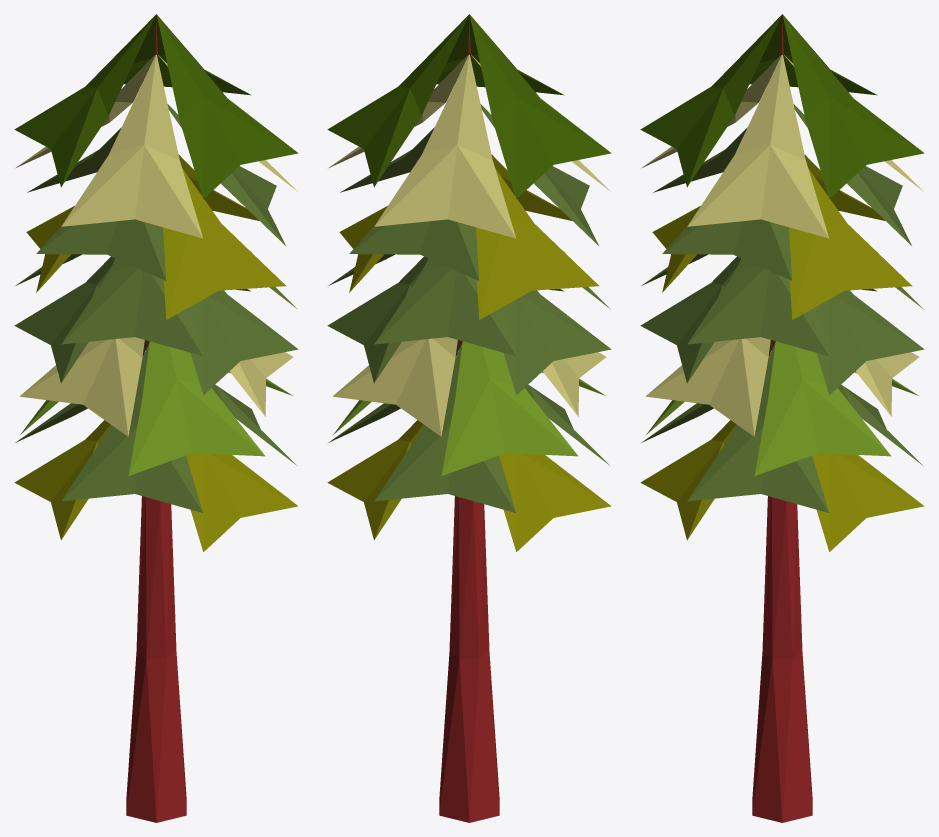
The model's file is origami_pine_large.fbx.
The picture shows the model from 3 angles, left to right: view 1: azimuth 30°, elevation 25°; view 2: azimuth 150°, elevation 25°; view 3: azimuth 270°, elevation 25°; orthographic projection.
Visible parts, largest first — view 1: G-Object.001, G-Object.002; view 2: G-Object.001, G-Object.002; view 3: G-Object.001, G-Object.002.
Part boxes in pixels (x1,y1,x2,y2): G-Object.001: [14, 14, 298, 551]; G-Object.002: [126, 14, 186, 822]; G-Object.001: [327, 14, 611, 551]; G-Object.002: [439, 14, 499, 822]; G-Object.001: [640, 14, 924, 551]; G-Object.002: [752, 14, 812, 822].
Size of the model in its own units: 334 by 1012 by 329.
